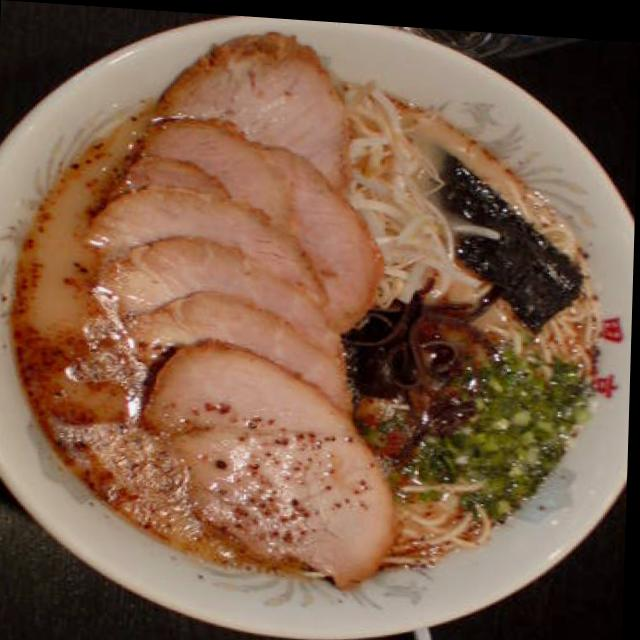面条主食: (11, 35, 633, 578)
